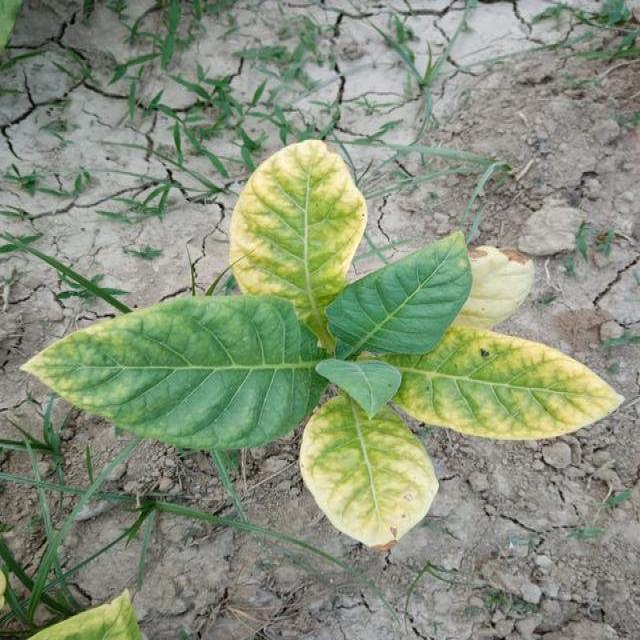crop: (22, 140, 626, 552)
